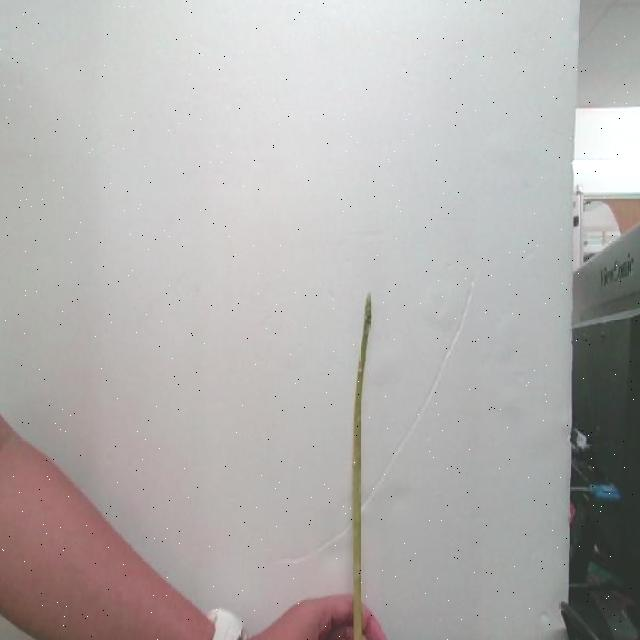aspargus: (351, 296, 375, 640)
